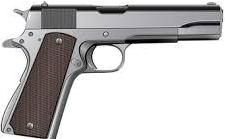gun: (1, 1, 225, 139)
